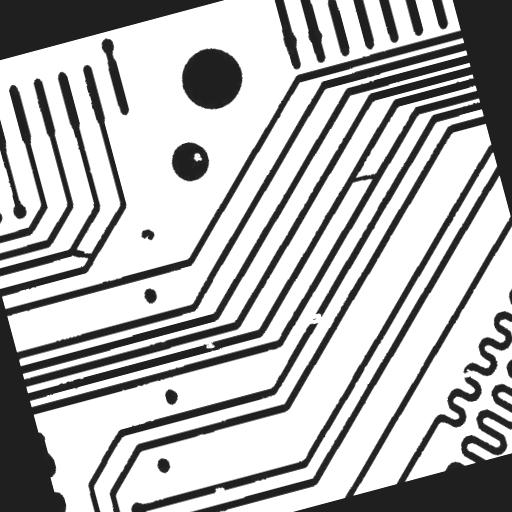copper: (130, 218, 164, 251)
mousebite: (194, 330, 224, 358), (204, 476, 234, 503), (89, 501, 116, 512)
open: (295, 303, 331, 334), (448, 358, 481, 388)
pin-hole: (182, 142, 210, 170)
short: (58, 234, 104, 274), (342, 161, 390, 193)
